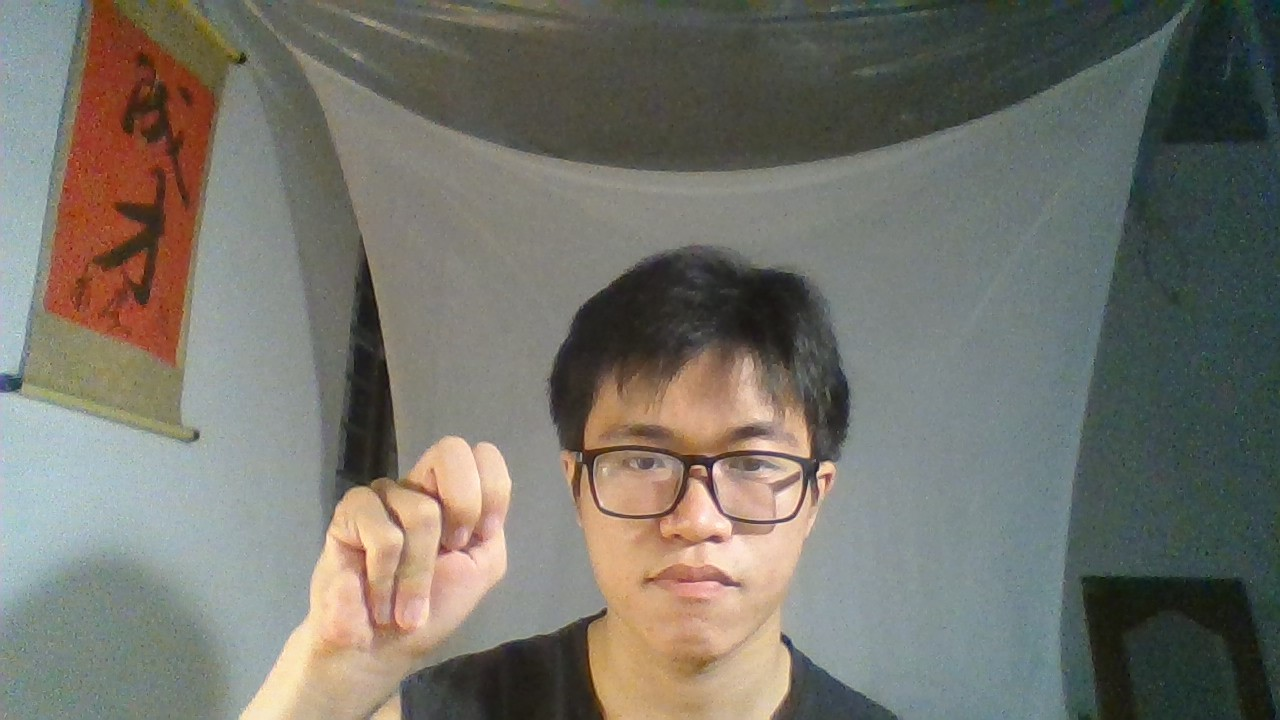n: (284, 374, 539, 657)
